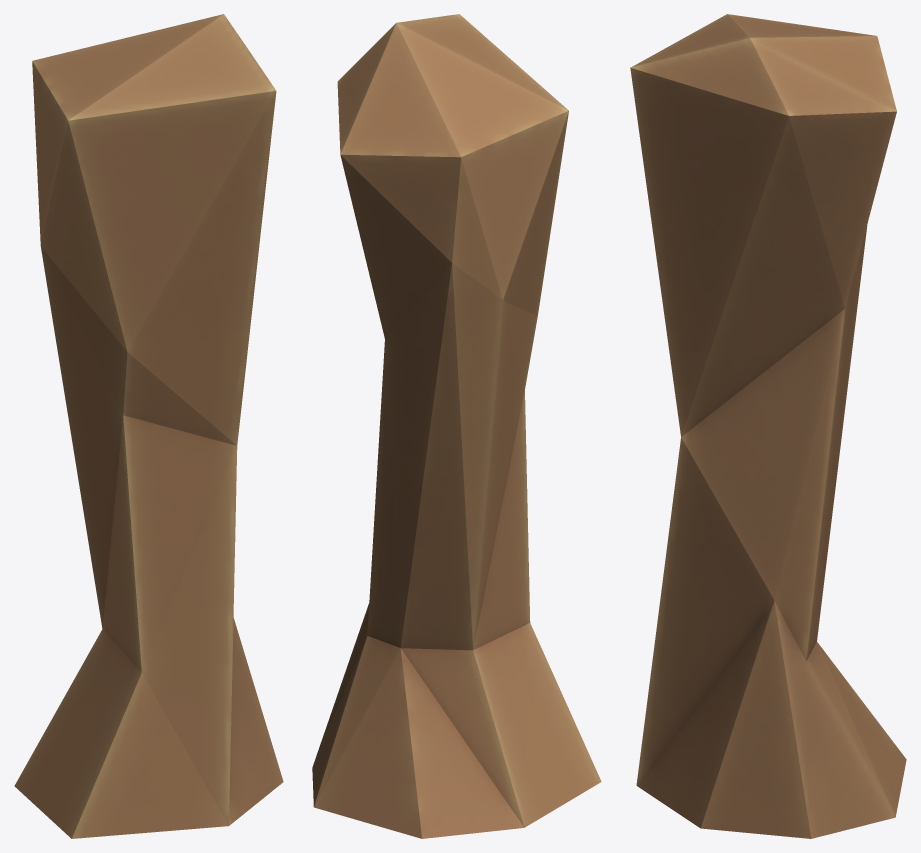
File: Mountain rock_16.fbx
3 renders of one model, left to right at view 1: azimuth 30°, elevation 25°; view 2: azimuth 150°, elevation 25°; view 3: azimuth 270°, elevation 25°, orthographic. The views are drawn at different scales.
Parts seen in each view (by area): view 1: Mountain rock_16; view 2: Mountain rock_16; view 3: Mountain rock_16.
Part boxes in pixels (x1,y1,x2,y2): Mountain rock_16: (14, 14, 283, 838); Mountain rock_16: (312, 14, 601, 838); Mountain rock_16: (630, 14, 906, 838).
Size of the model in its own units: 113 by 343 by 111.
